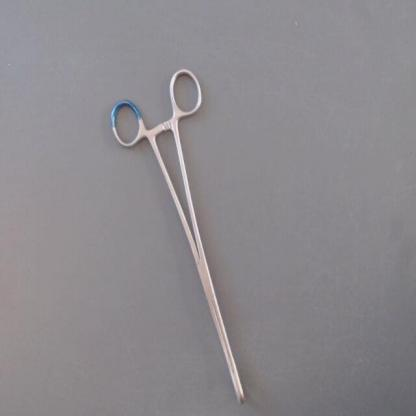Sponge Forceps: (105, 61, 256, 412)
